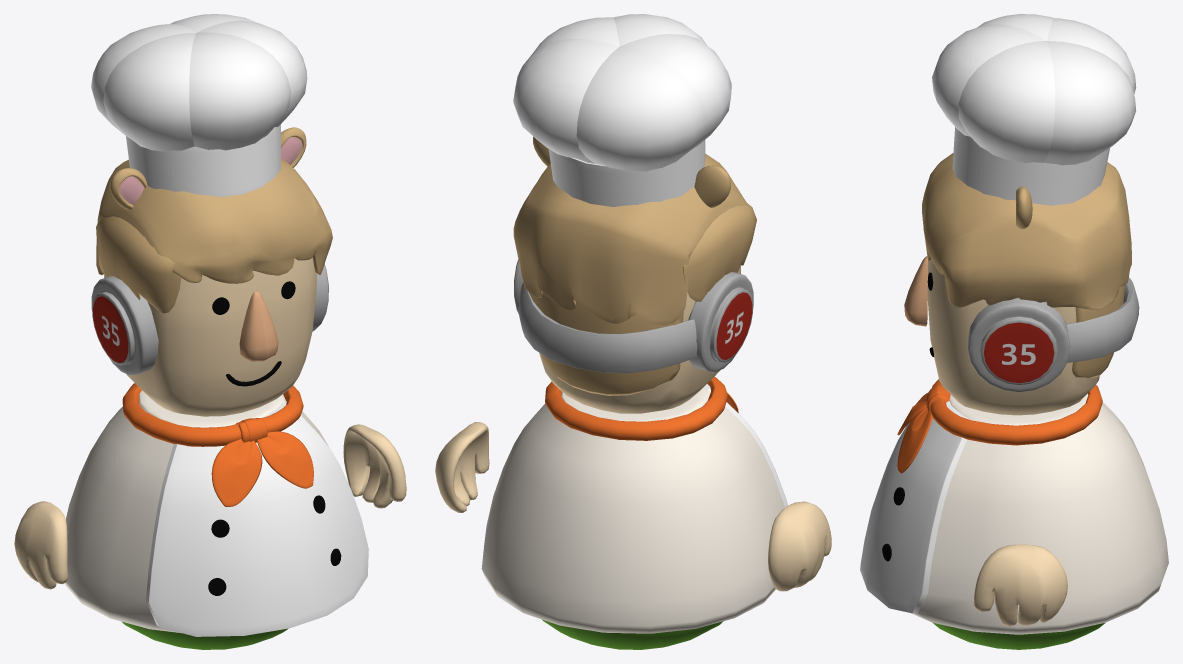
Rendered from wak5.fbx.
3 views of the same model, side by side, from view 1: azimuth 30°, elevation 25°; view 2: azimuth 150°, elevation 25°; view 3: azimuth 270°, elevation 25° (orthographic).
Visible parts, largest first — view 1: W_apron_mdl, polySurface1, W_shirt_mdl, W_hair_R_mdl, pSphere7, pSphere9, W_hat_b_mdl, W_headphone_L, W_hair_L_mdl, W_scarf_T_mdl, W_hand_R, W_hand_L (+11 smaller); view 2: W_shirt_mdl, W_hair_R_mdl, pSphere10, pSphere11, W_headphone_back, W_hat_b_mdl, polySurface2, W_headphone_L, W_hand_L, pSphere9, W_scarf_T_mdl, W_hair_L_mdl (+7 smaller); view 3: W_shirt_mdl, W_hair_R_mdl, W_apron_mdl, pSphere8, pSphere11, polySurface1, W_headphone_R, W_hat_b_mdl, W_hand_R, pSphere7, W_scarf_T_mdl, W_headphone_back (+7 smaller).
Boxes of the visible parts, x1,y1,x2,y2 form: W_apron_mdl: (146, 401, 368, 636); polySurface1: (126, 257, 317, 416); W_shirt_mdl: (64, 390, 328, 633); W_hair_R_mdl: (96, 158, 332, 283); pSphere7: (189, 32, 291, 150); pSphere9: (103, 33, 195, 151); W_hat_b_mdl: (126, 124, 280, 197); W_headphone_L: (91, 276, 158, 375); W_hair_L_mdl: (96, 216, 181, 313); W_scarf_T_mdl: (122, 383, 303, 446); W_hand_R: (343, 424, 406, 508); W_hand_L: (14, 501, 67, 589); W_shirt_mdl: (481, 387, 784, 633); W_hair_R_mdl: (513, 153, 747, 324); pSphere10: (576, 46, 707, 171); pSphere11: (513, 38, 619, 163); W_headphone_back: (518, 282, 697, 372); W_hat_b_mdl: (548, 140, 705, 206); polySurface2: (528, 292, 683, 395); W_headphone_L: (688, 272, 753, 372); W_hand_L: (768, 501, 831, 591); pSphere9: (620, 34, 731, 150); W_scarf_T_mdl: (545, 376, 727, 440); W_hair_L_mdl: (682, 203, 756, 301); W_shirt_mdl: (910, 393, 1168, 634); W_hair_R_mdl: (922, 153, 1131, 309); W_apron_mdl: (860, 401, 970, 613); pSphere8: (958, 41, 1055, 163); pSphere11: (1044, 41, 1136, 165); polySurface1: (927, 259, 1099, 415); W_headphone_R: (968, 298, 1070, 392); W_hat_b_mdl: (952, 127, 1109, 205); W_hand_R: (973, 544, 1067, 626); pSphere7: (932, 24, 1045, 136); W_scarf_T_mdl: (926, 379, 1102, 445); W_headphone_back: (1066, 277, 1139, 362).
Size of the model in its own units: 10.31 by 15.87 by 7.44.
Materials: 12 (2 with a texture image).
